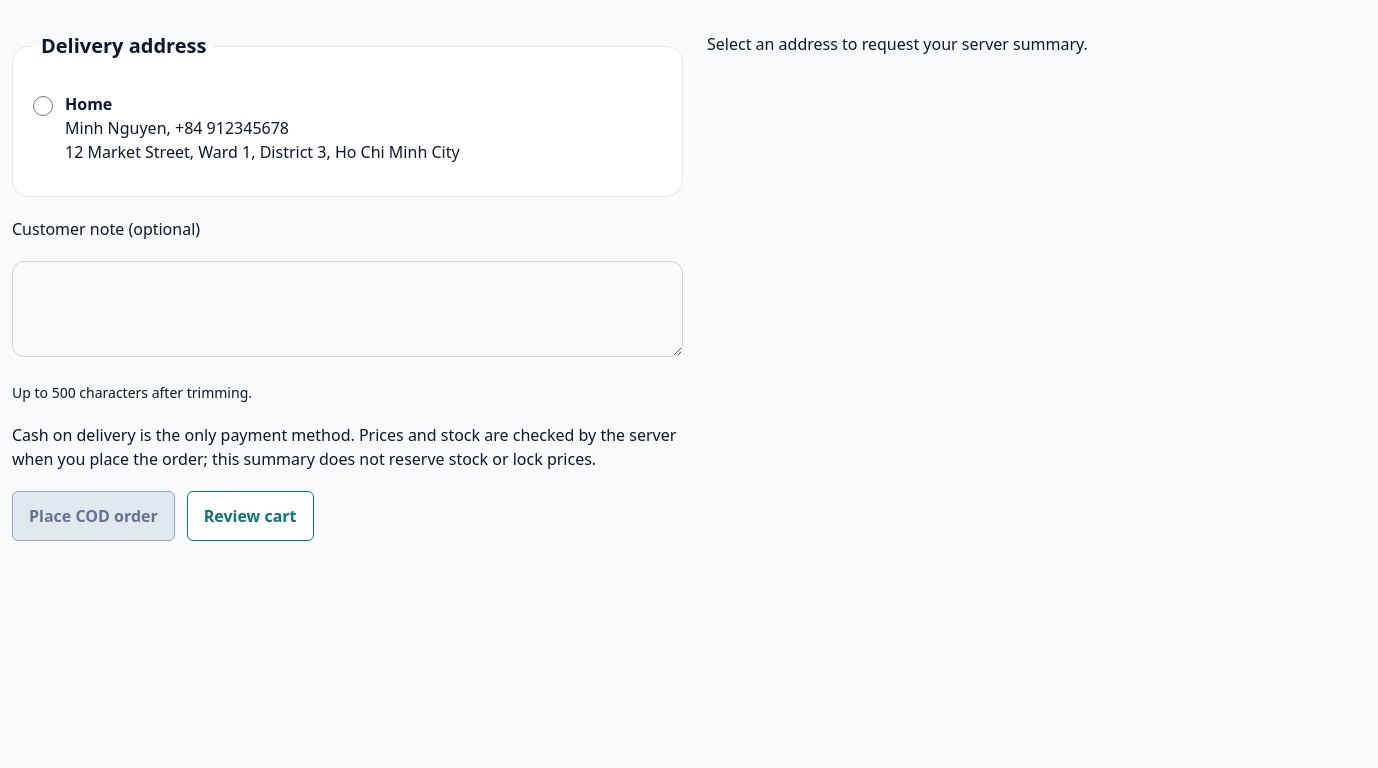
Test: stock conflict explains the affected item and permits review without changing the cart
Click the radio button at (43, 106), box [33,96,53,116]
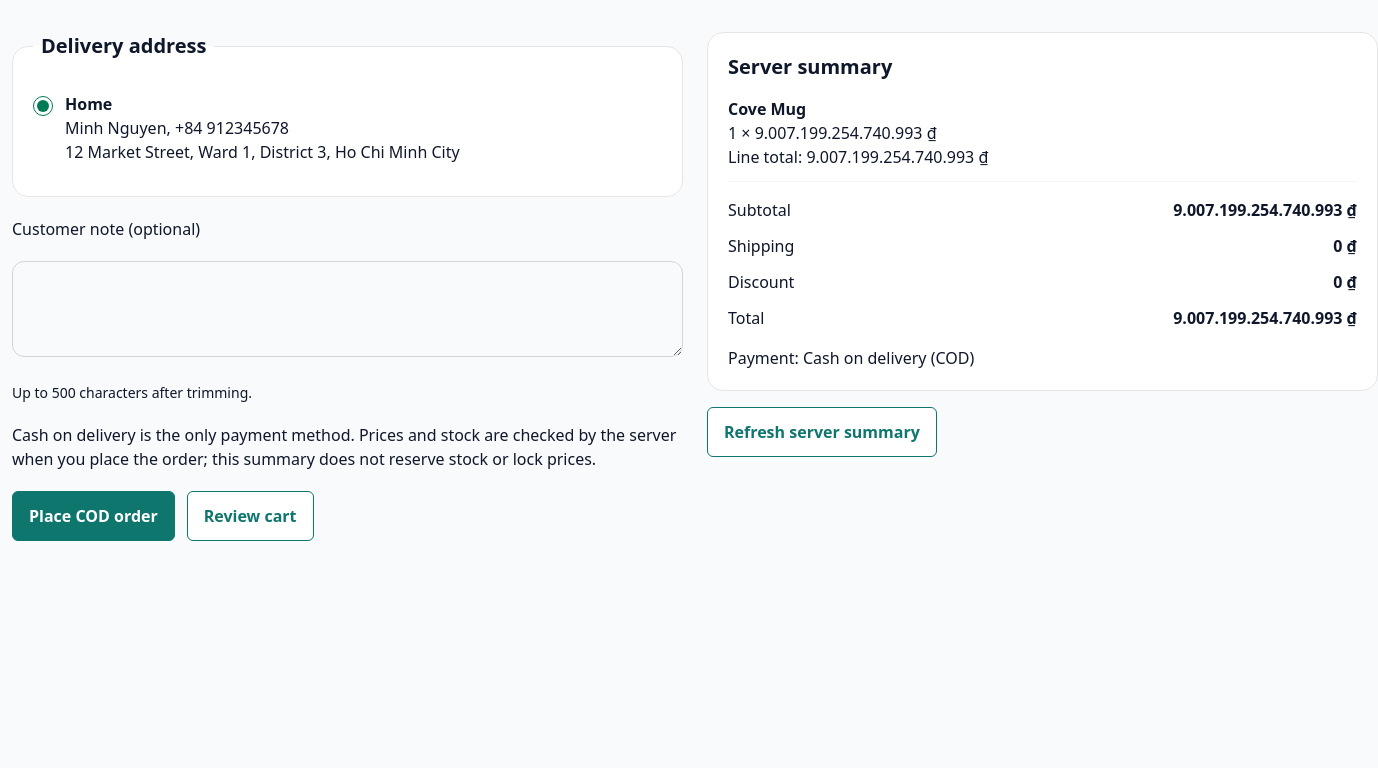
Result: the button "Place COD order" is enabled
Click the button "Place COD order" at (93, 516), box [12,491,175,541]
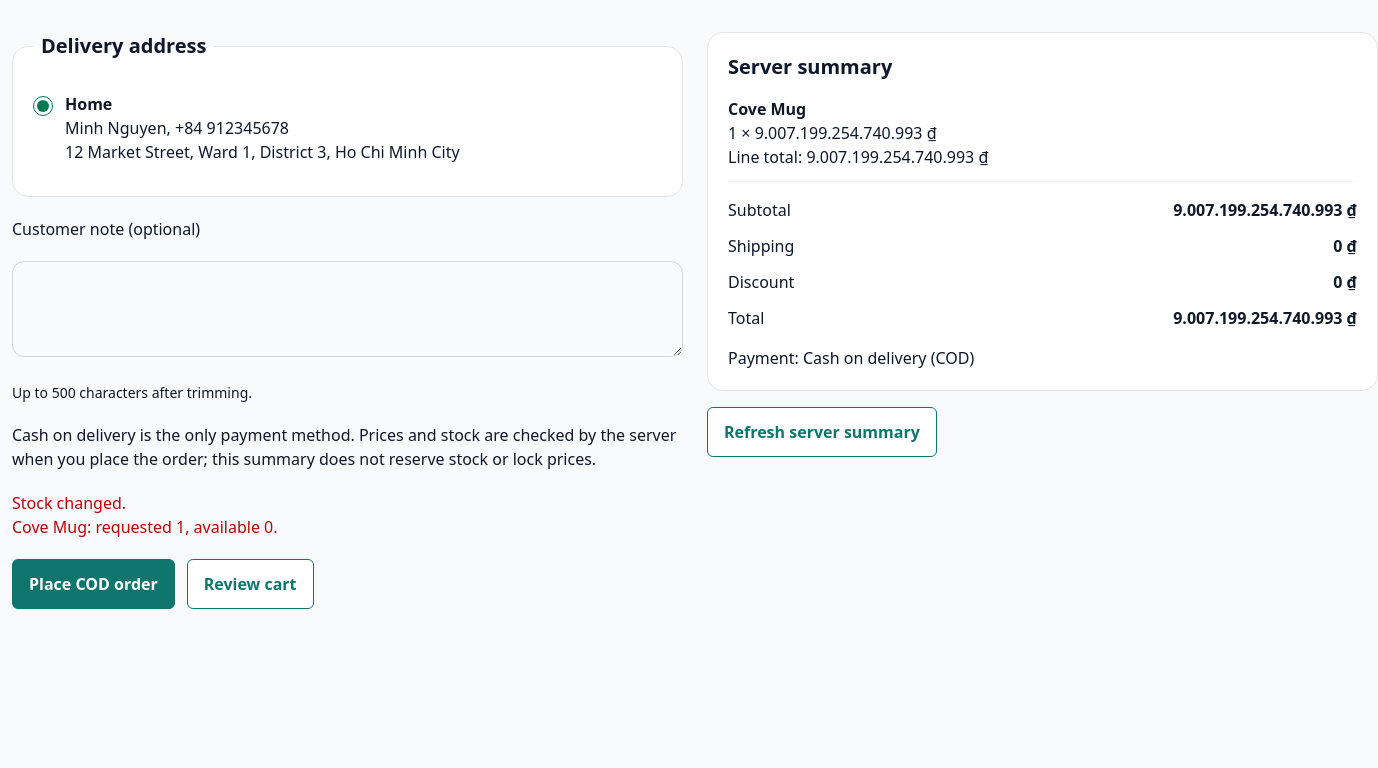
Expected: the radio button is enabled, [33,96,53,116]
Result: the text "Cove Mug: requested 1, available 0." is shown at [12,516,278,538]
